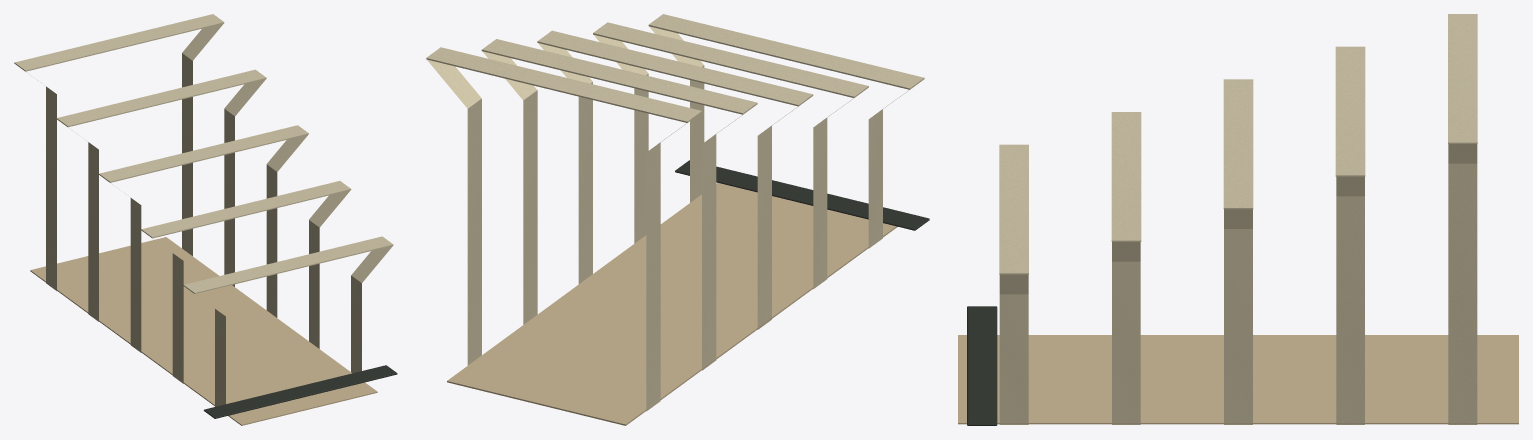
Rendered from paper-memory.glb.
3 views of the same model, side by side, from view 1: azimuth 30°, elevation 25°; view 2: azimuth 150°, elevation 25°; view 3: azimuth 270°, elevation 25° (orthographic). The views are drawn at different scales.
Parts seen in each view (by area): view 1: Ledger_Paper_Memory / Ivory enamel, Ledger_Paper_Memory / Ledger aged page edges, Ledger ink redaction; view 2: Ledger_Paper_Memory / Ivory enamel, Ledger_Paper_Memory / Ledger aged page edges, Ledger ink redaction; view 3: Ledger_Paper_Memory / Ivory enamel, Ledger_Paper_Memory / Ledger aged page edges, Ledger ink redaction.
Part boxes in pixels (x1,y1,x2,y2): Ledger_Paper_Memory / Ivory enamel: (14, 14, 393, 406); Ledger_Paper_Memory / Ledger aged page edges: (30, 237, 377, 425); Ledger ink redaction: (203, 365, 397, 418); Ledger_Paper_Memory / Ivory enamel: (426, 14, 924, 411); Ledger_Paper_Memory / Ledger aged page edges: (447, 183, 897, 425); Ledger ink redaction: (675, 160, 929, 230); Ledger_Paper_Memory / Ivory enamel: (999, 14, 1477, 424); Ledger_Paper_Memory / Ledger aged page edges: (958, 335, 1518, 424); Ledger ink redaction: (967, 306, 997, 425).
Size of the model in its own units: 0.38 by 0.417 by 0.7.
3 materials, 1 textured.
